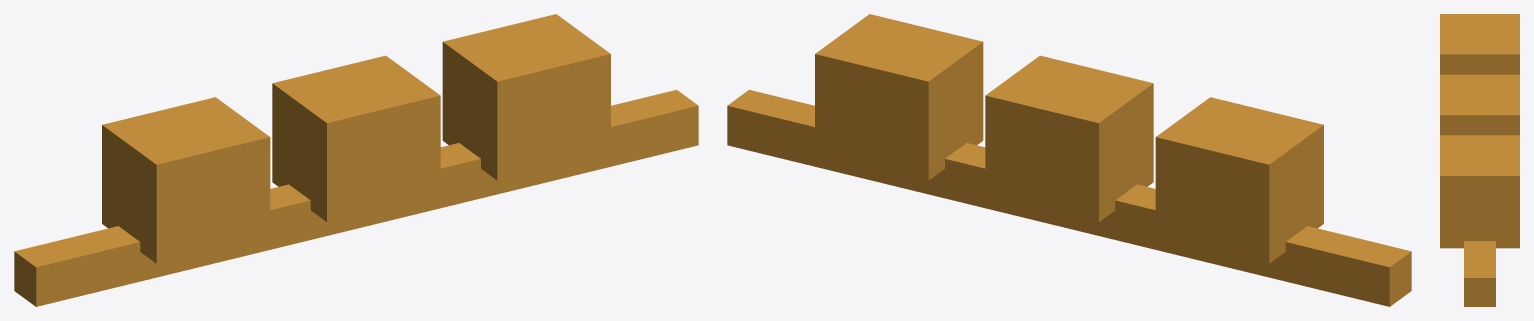
Rendered from product_crispy_skewer.glb.
3 renders of one model, left to right at view 1: azimuth 30°, elevation 25°; view 2: azimuth 150°, elevation 25°; view 3: azimuth 270°, elevation 25°, orthographic. The views are drawn at different scales.
Parts seen in each view (by area): view 1: product.crispy_skewer; view 2: product.crispy_skewer; view 3: product.crispy_skewer.
Boxes of the visible parts, box(x1,y1,x2,y2) form: product.crispy_skewer: box(14, 14, 698, 306); product.crispy_skewer: box(727, 14, 1411, 306); product.crispy_skewer: box(1440, 14, 1519, 306).
Bounding box in the file's own units: 0.24 × 0.0446 × 0.0343.
